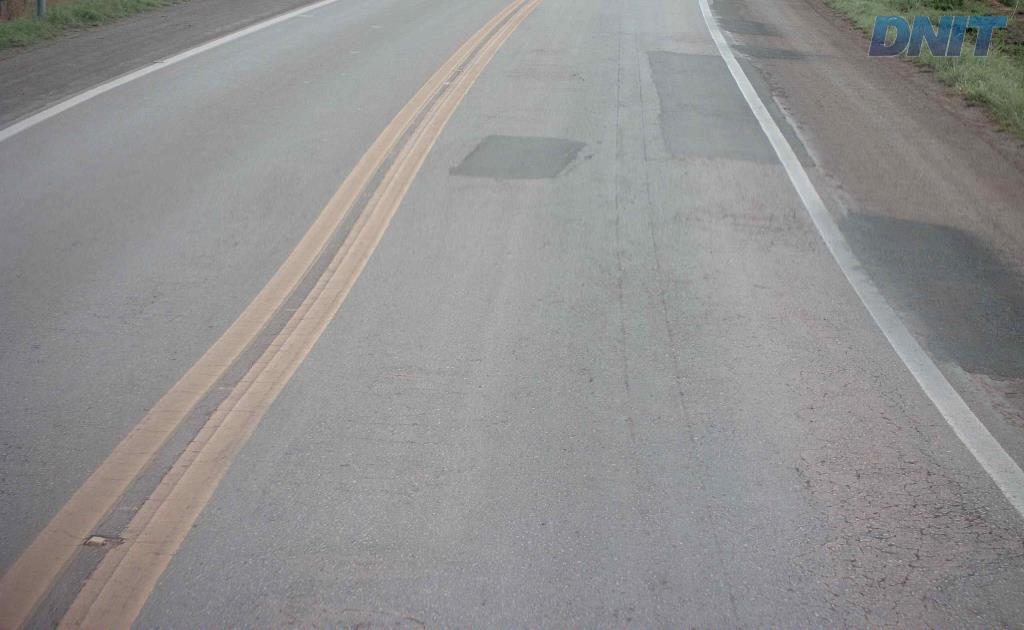crack: (914, 488, 1023, 629)
